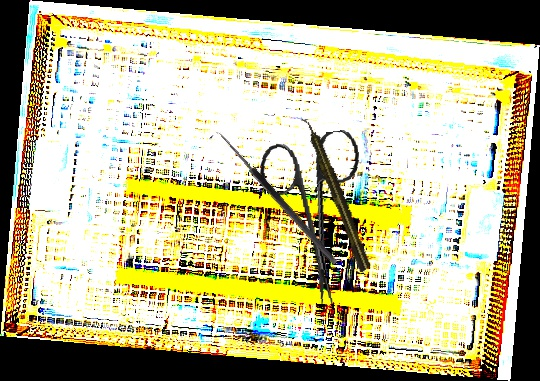Handpiece: (299, 113, 374, 275)
Hook Surgical: (207, 128, 340, 271)
Iris Scissors: (256, 128, 379, 312)
